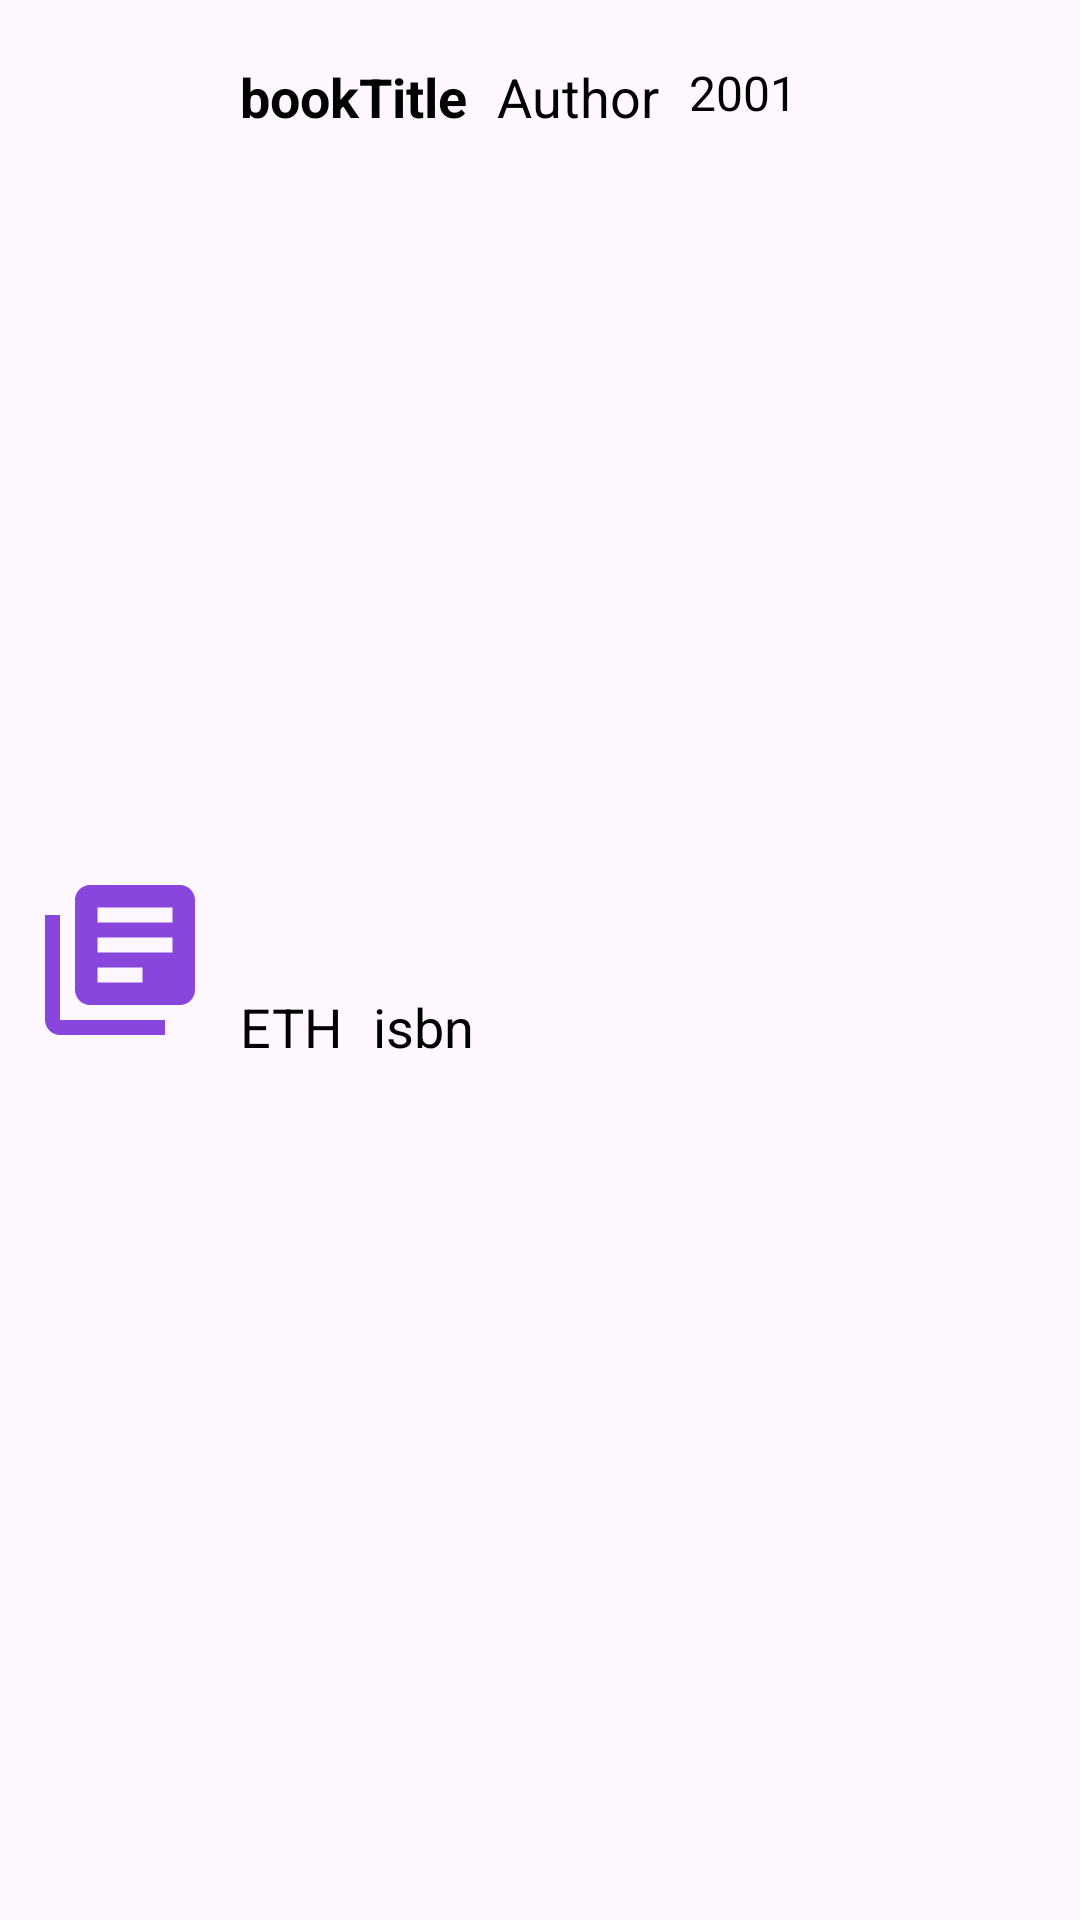

Named icons in this screenshot (1080px×1920px) and their bounding boxes, (x1=x1, y1=y1, x2=x2, y2=y2):
library books: (x1=45, y1=885, x2=195, y2=1035)
